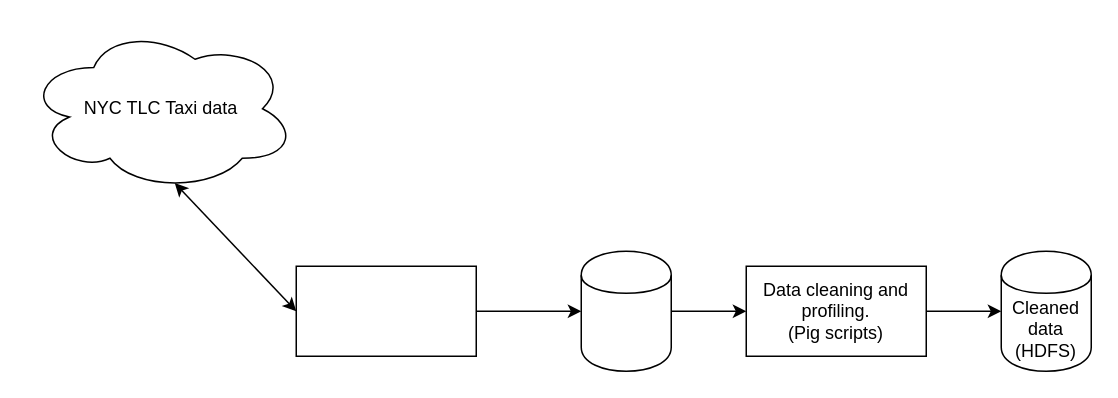
The diagram is 1118 pixels wide and 398 high, and some of its shapes have lost their labels. The shapes that lost their labels are listed below. From the top down, each one's centre as x and y in pixels, then its label:
At [385,310]: "Data Loader (Python Script)".
At [625,310]: "HDFS file store".
